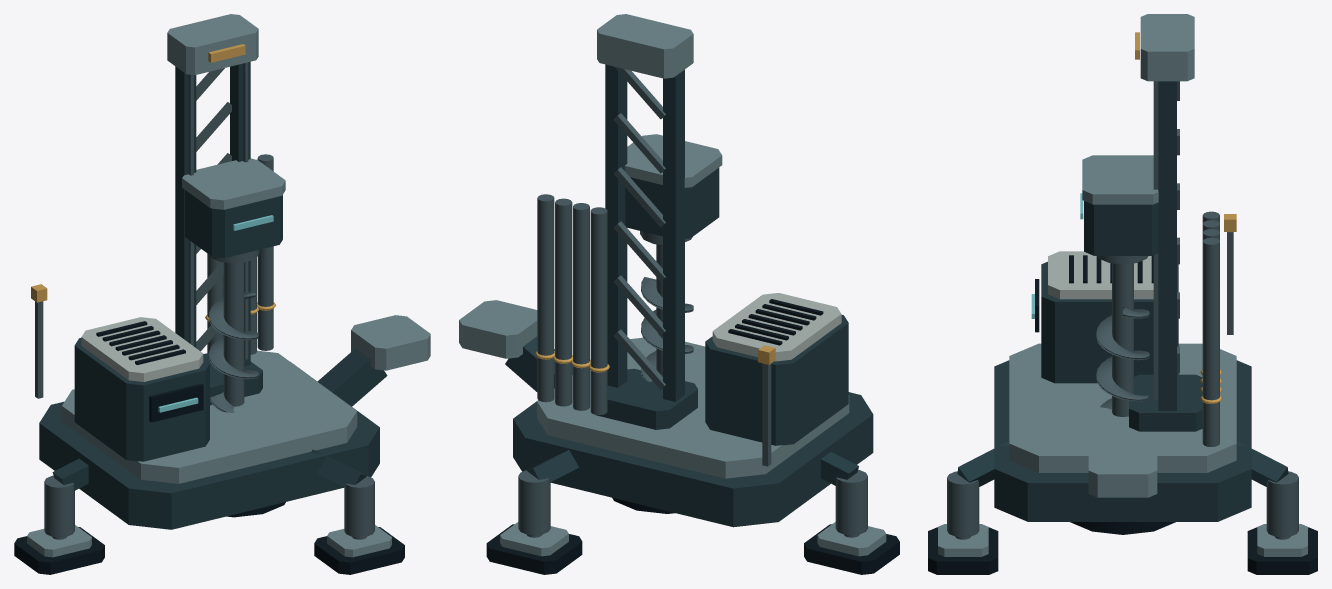
Rendered from drill_d0_lod1.meshopt.glb.
The picture shows the model from 3 angles, left to right: view 1: azimuth 30°, elevation 25°; view 2: azimuth 150°, elevation 25°; view 3: azimuth 270°, elevation 25°; orthographic projection. The views are drawn at different scales.
Parts seen in each view (by area): view 1: DRILL_CHASSIS, MAST_FRAME, DRIVE_HEAD, ORE_CHUTE, AUGER, ANCHOR_1_MESH, ANCHOR_3_MESH; view 2: DRILL_CHASSIS, MAST_FRAME, DRIVE_HEAD, ORE_CHUTE, ANCHOR_2_MESH, ANCHOR_1_MESH, AUGER; view 3: DRILL_CHASSIS, MAST_FRAME, DRIVE_HEAD, AUGER, ORE_CHUTE, ANCHOR_2_MESH, ANCHOR_3_MESH.
Part boxes in pixels (left/top/right/bottom): DRILL_CHASSIS: left=31, top=154, right=379, bottom=537; MAST_FRAME: left=167, top=14, right=262, bottom=405; DRIVE_HEAD: left=182, top=159, right=285, bottom=263; ORE_CHUTE: left=317, top=315, right=430, bottom=406; AUGER: left=209, top=262, right=258, bottom=412; ANCHOR_1_MESH: left=14, top=525, right=104, bottom=574; ANCHOR_3_MESH: left=314, top=525, right=404, bottom=574; DRILL_CHASSIS: left=513, top=194, right=873, bottom=535; MAST_FRAME: left=596, top=14, right=697, bottom=429; DRIVE_HEAD: left=624, top=134, right=722, bottom=244; ORE_CHUTE: left=459, top=300, right=572, bottom=391; ANCHOR_2_MESH: left=486, top=522, right=582, bottom=574; ANCHOR_1_MESH: left=804, top=522, right=899, bottom=574; AUGER: left=641, top=244, right=693, bottom=381; DRILL_CHASSIS: left=947, top=211, right=1298, bottom=537; MAST_FRAME: left=1129, top=14, right=1202, bottom=431; DRIVE_HEAD: left=1080, top=155, right=1158, bottom=264; AUGER: left=1096, top=263, right=1149, bottom=416; ORE_CHUTE: left=1088, top=445, right=1157, bottom=498; ANCHOR_2_MESH: left=1247, top=524, right=1317, bottom=574; ANCHOR_3_MESH: left=928, top=524, right=998, bottom=574.
Bounding box in the file's own units: 5.63 × 6.41 × 4.54.
